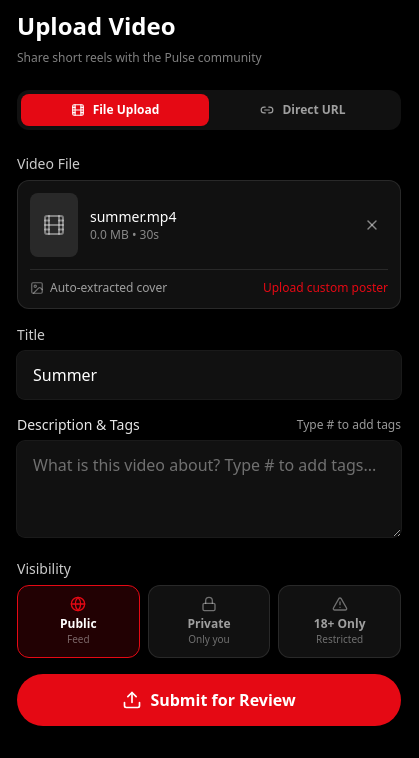
Test case: UploadScreen Component (Phase 2) › supports cancellation during active upload and resets progress gracefully
The image size is (419, 758).
Earlier steps of the test are not shown.
(page scrolled)
Check: the text "summer.mp4" is shown, box x1=90 y1=207 x2=176 y2=226
Check: the field with placeholder "Give your video a catchy title" holds "Summer", box x1=17 y1=351 x2=401 y2=399
Click the button "Submit for Review" at (209, 700), box x1=17 y1=674 x2=401 y2=726
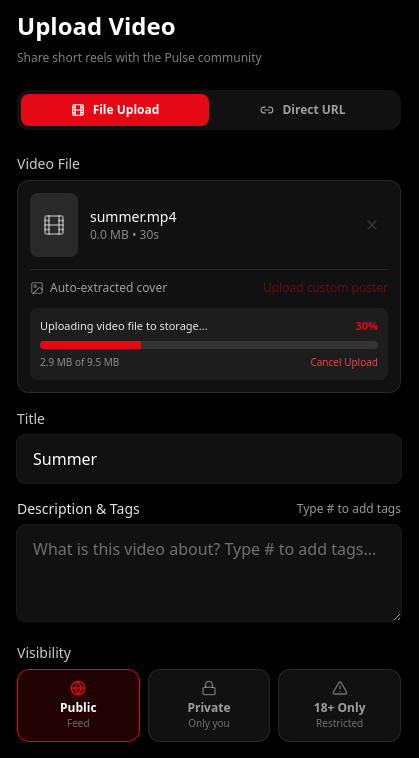
Check: the button "Cancel Upload" is shown
Click the button "Cancel Upload" at (344, 362), box x1=310 y1=354 x2=378 y2=370
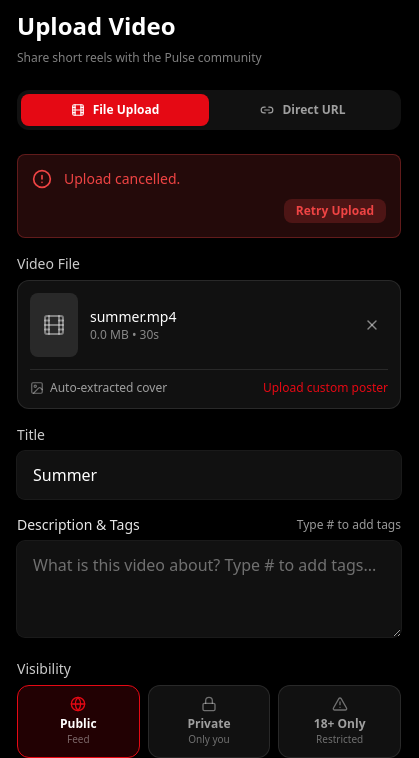
Check: the text "summer.mp4" is shown, box x1=90 y1=307 x2=176 y2=326
Check: the text "Upload cancelled." is shown, box x1=64 y1=169 x2=180 y2=189
Check: the progress indicator is gone
